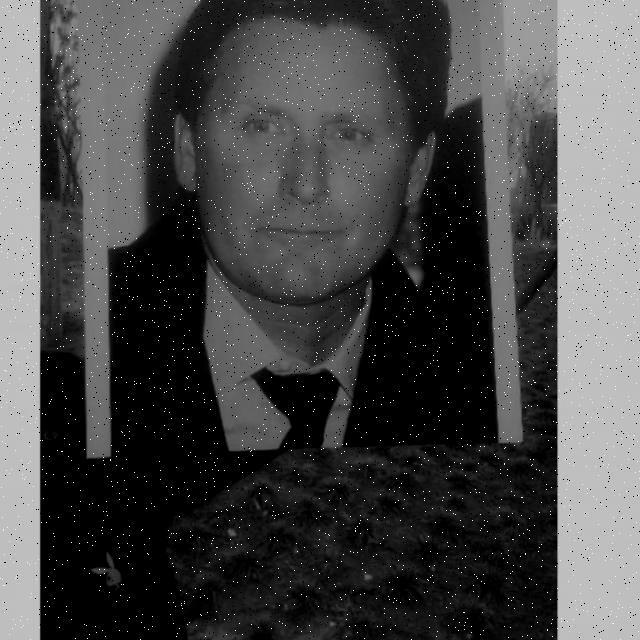fake: (73, 0, 525, 458)
